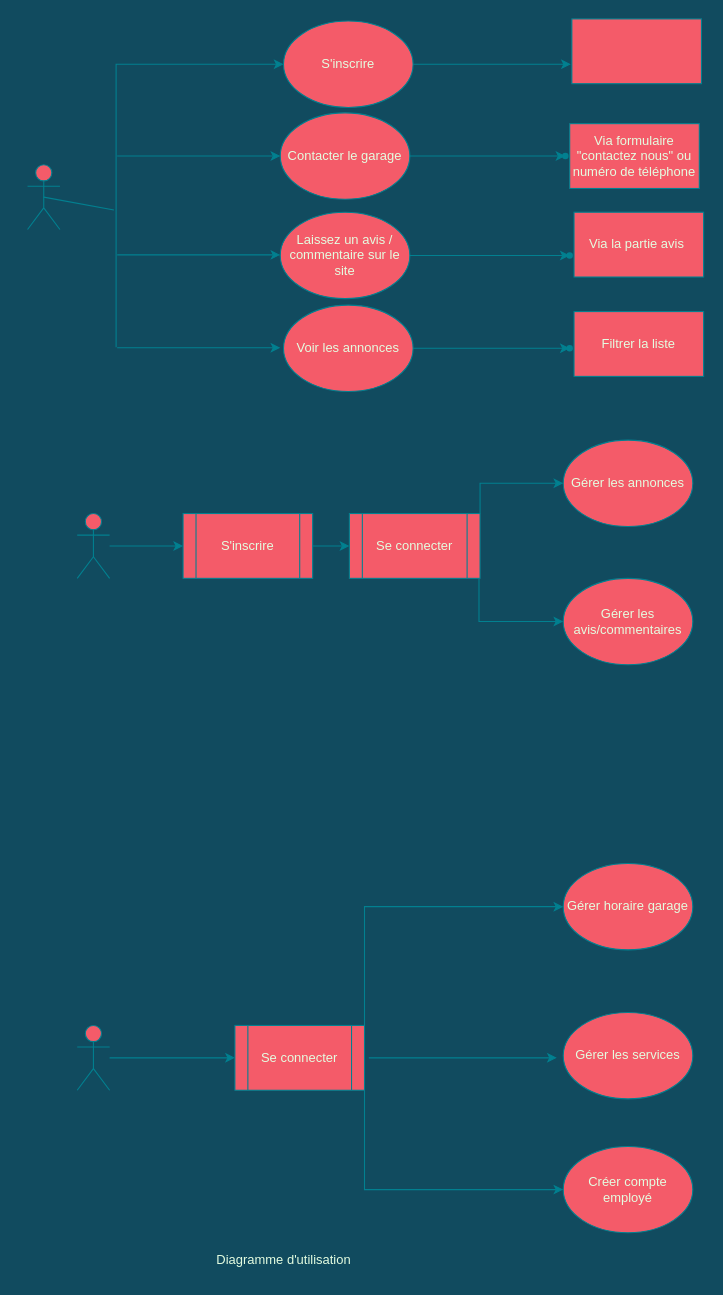
Some shapes in this 723 by 1295 pixel diagram are drawn without their labels. The centre of each missing label's shape, as x and y in pixels:
"Admin" belongs at (93,1057).
"Employé" belongs at (93,545).
"Via formulaire insscription" belongs at (636,51).
"Visiteurs" belongs at (43,197).
